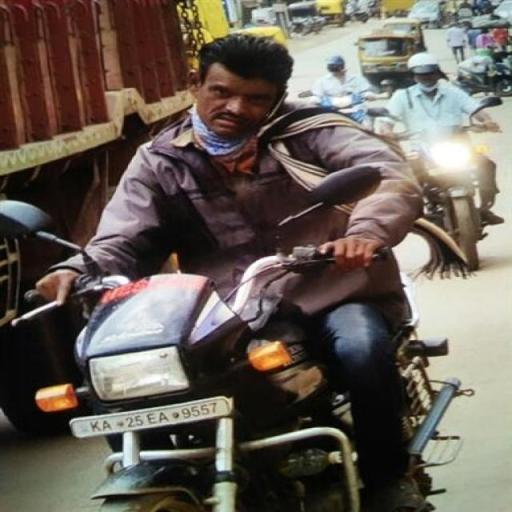numberplate: (67, 392, 225, 442)
using mobile: (264, 81, 304, 132)
